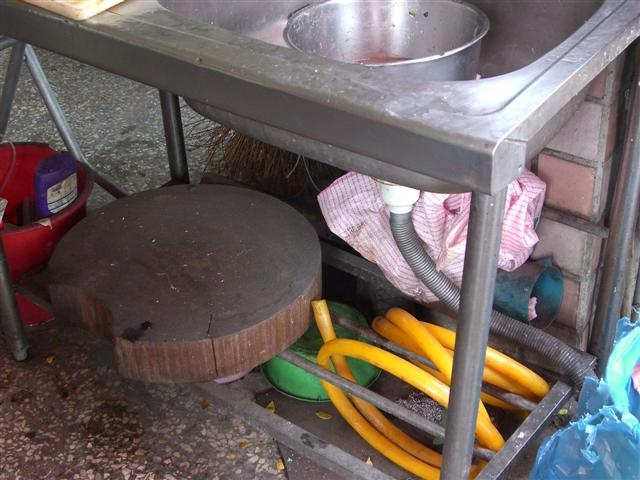bowl: (281, 1, 494, 90)
